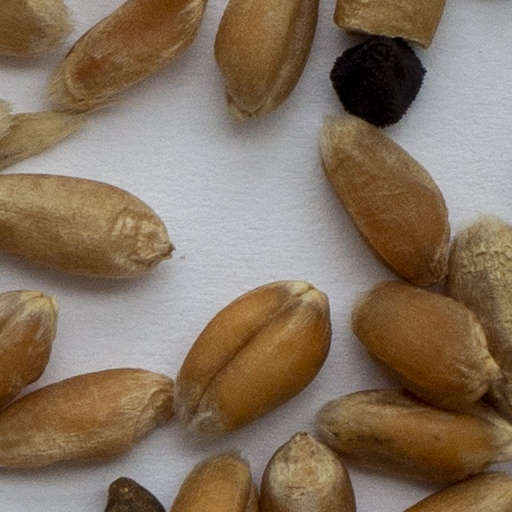Agrostemma-poly: (325, 38, 429, 130)
Wheat-grain-damaged-poly: (333, 0, 444, 47)
